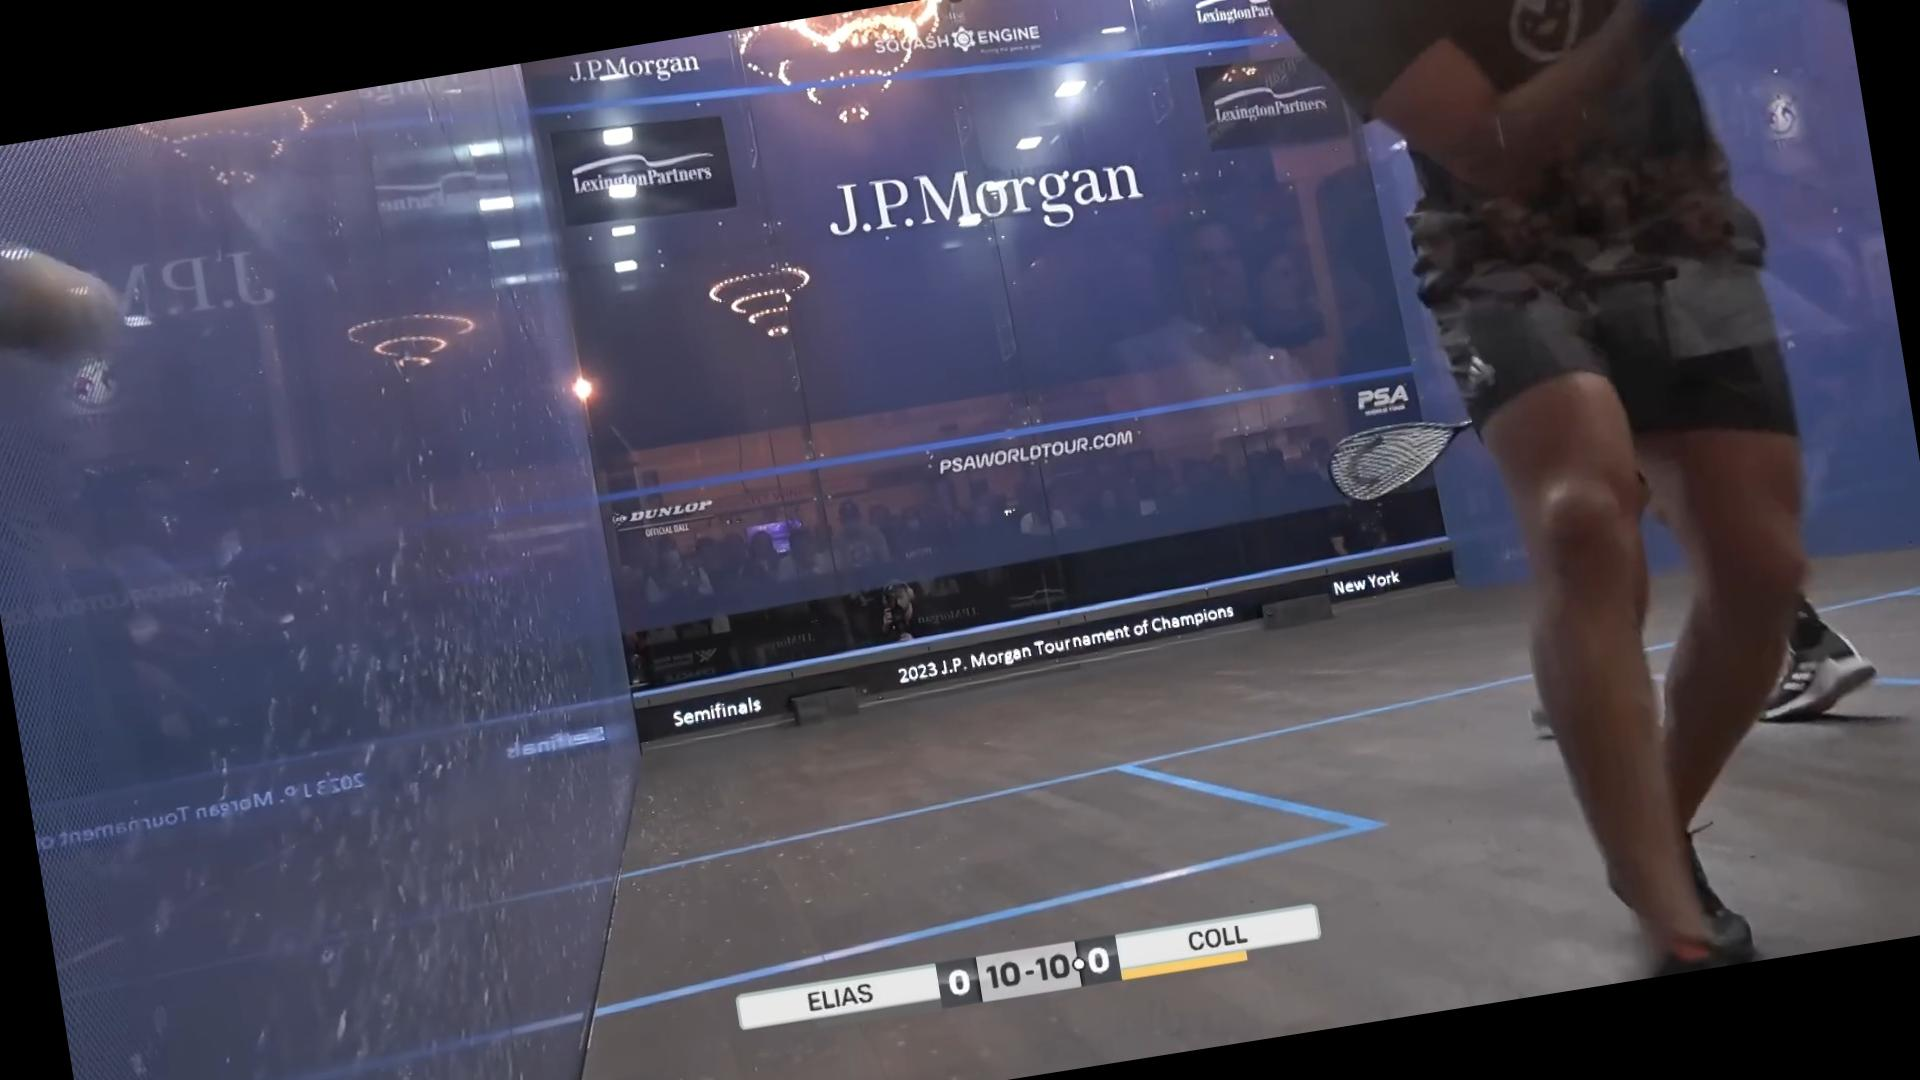Racket: (1317, 407, 1487, 520)
